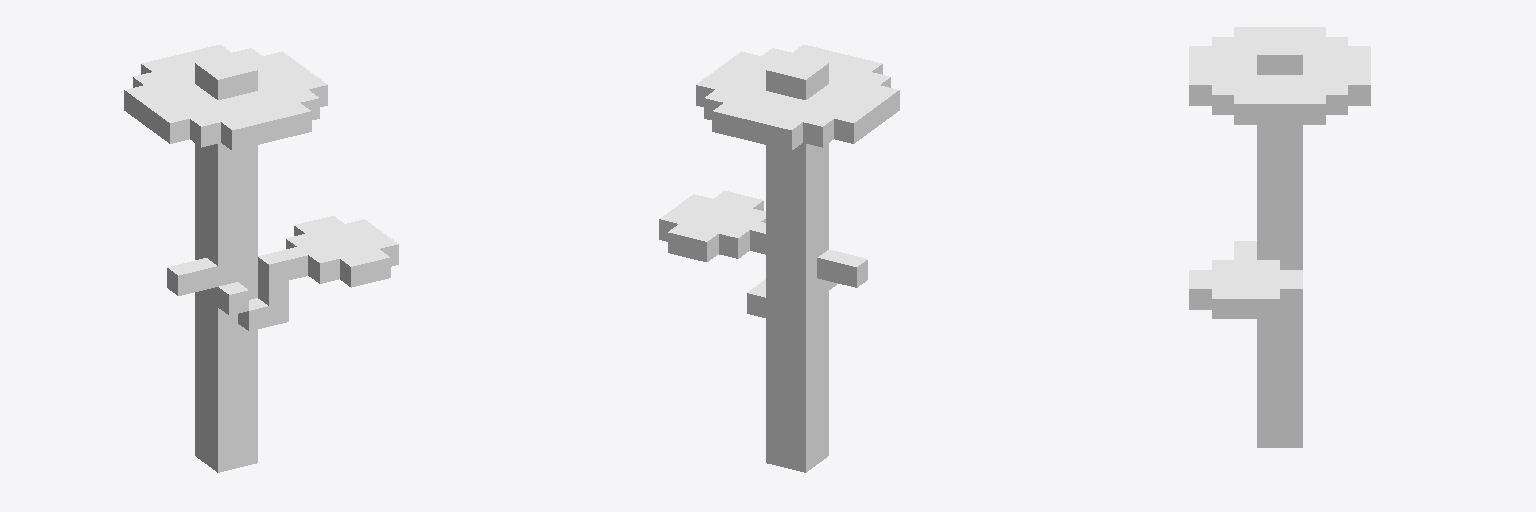
File: VoxelFlower4.obj
The picture shows the model from 3 angles: view 1: azimuth 30°, elevation 25°; view 2: azimuth 150°, elevation 25°; view 3: azimuth 270°, elevation 25°; orthographic projection.
Parts seen in each view (by area): view 1: VoxelFlower4; view 2: VoxelFlower4; view 3: VoxelFlower4.
Part boxes in pixels (x1,y1,x2,y2): VoxelFlower4: (124,45,398,472); VoxelFlower4: (659,45,899,472); VoxelFlower4: (1189,27,1370,447).
Bounding box in the file's own units: 11 × 19 × 8.